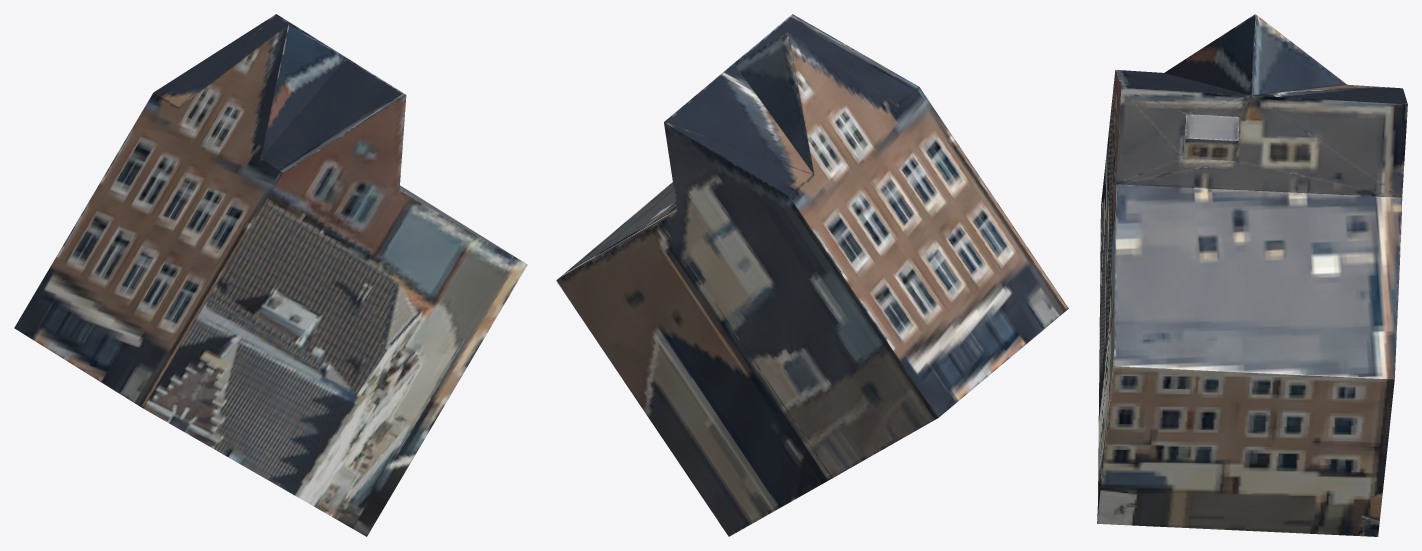
The picture shows the model from 3 angles, left to right: view 1: azimuth 30°, elevation 25°; view 2: azimuth 150°, elevation 25°; view 3: azimuth 270°, elevation 25°; orthographic projection. The views are drawn at different scales.
Visible parts, largest first — view 1: BAG_0599100000671723 (×3); view 2: BAG_0599100000671723 (×3); view 3: BAG_0599100000671723 (×5).
Boxes of the visible parts, <box> form: BAG_0599100000671723 (×3): <box>14,14,527,536</box>; BAG_0599100000671723 (×3): <box>556,14,1068,536</box>; BAG_0599100000671723 (×5): <box>1097,14,1407,536</box>.
Size of the model in its own units: 20.84 by 24.19 by 13.09.
1 material, 1 textured.
